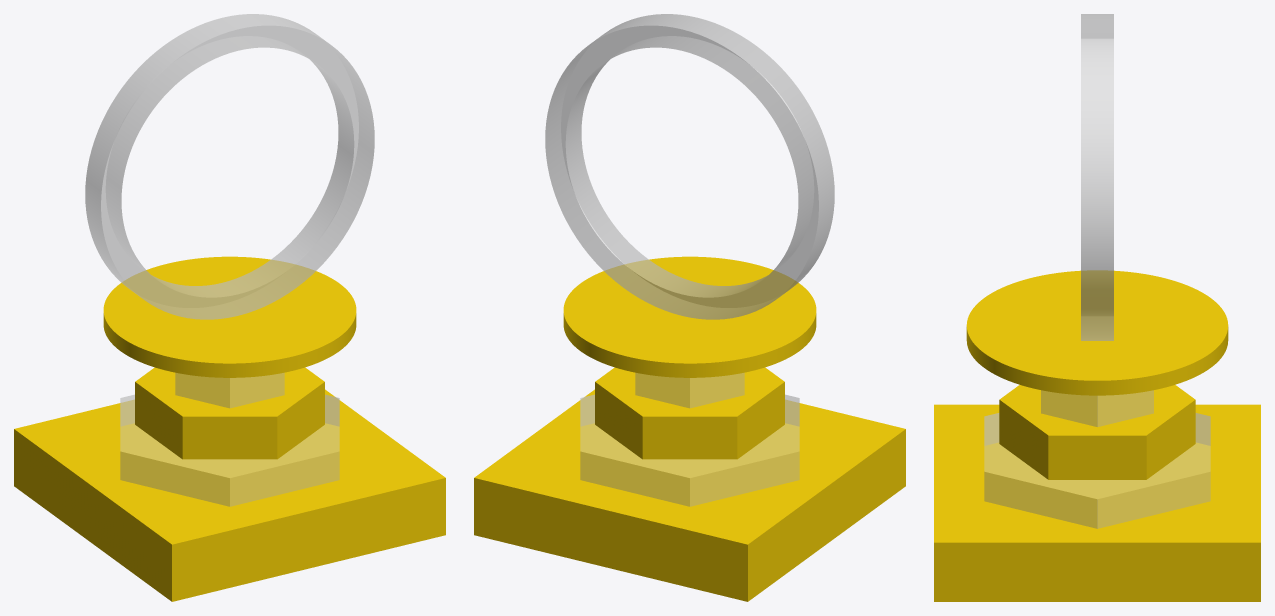
The model's file is gold.dae.
The picture shows the model from 3 angles, left to right: view 1: azimuth 30°, elevation 25°; view 2: azimuth 150°, elevation 25°; view 3: azimuth 270°, elevation 25°; orthographic projection. The views are drawn at different scales.
Visible parts, largest first — view 1: base_gold (×7), Component_5 (×2); view 2: base_gold (×7), Component_5 (×2); view 3: base_gold (×7), Component_5 (×2).
Boxes of the visible parts, left/top/right/bottom form: base_gold (×7): left=14, top=256, right=445, bottom=601; Component_5 (×2): left=85, top=14, right=374, bottom=319; base_gold (×7): left=474, top=256, right=905, bottom=601; Component_5 (×2): left=545, top=14, right=834, bottom=319; base_gold (×7): left=934, top=270, right=1260, bottom=601; Component_5 (×2): left=1081, top=14, right=1113, bottom=340.
Size of the model in its own units: 394 by 394 by 669.
